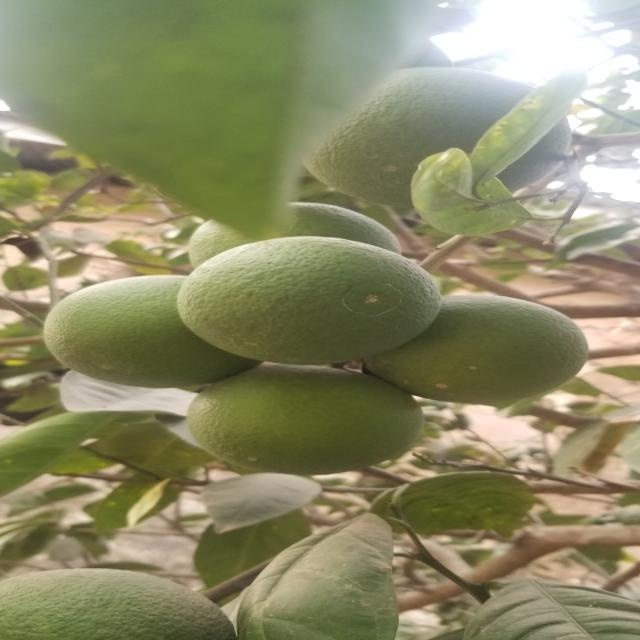agrume: (176, 231, 473, 366), (294, 66, 558, 202), (173, 362, 438, 476), (55, 273, 238, 389), (385, 292, 584, 398), (6, 562, 245, 640), (186, 198, 415, 278)
